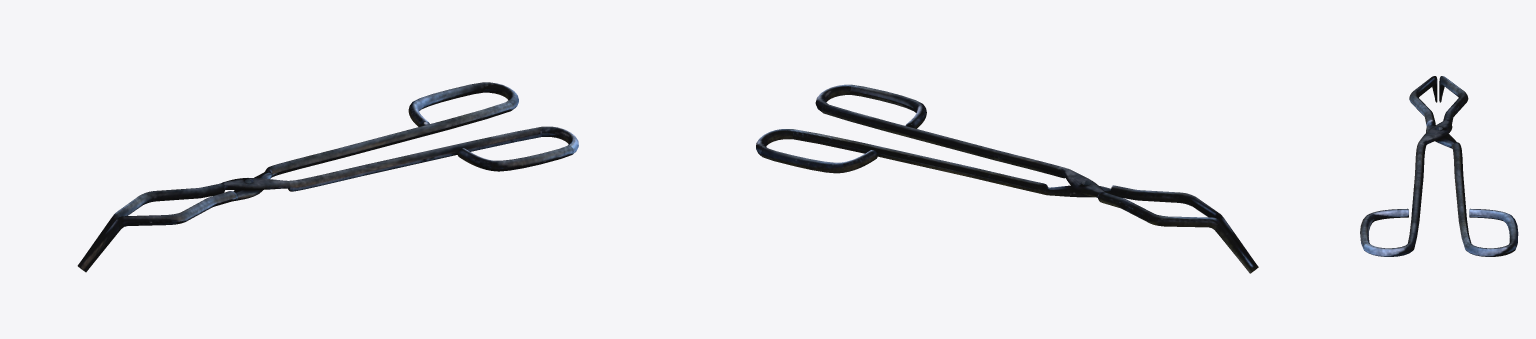
Rendered from tong_w_collider.glb.
The picture shows the model from 3 angles, left to right: view 1: azimuth 30°, elevation 25°; view 2: azimuth 150°, elevation 25°; view 3: azimuth 270°, elevation 25°; orthographic projection. The views are drawn at different scales.
Visible parts, largest first — view 1: tong_collider; view 2: tong_collider; view 3: tong_collider.
Boxes of the visible parts, x1,y1,x2,y2 form: tong_collider: (77, 82, 578, 272); tong_collider: (756, 84, 1258, 273); tong_collider: (1360, 76, 1518, 256).
Size of the model in its own units: 0.1171 by 0.0219 by 0.0379.
2 materials, 1 textured.
